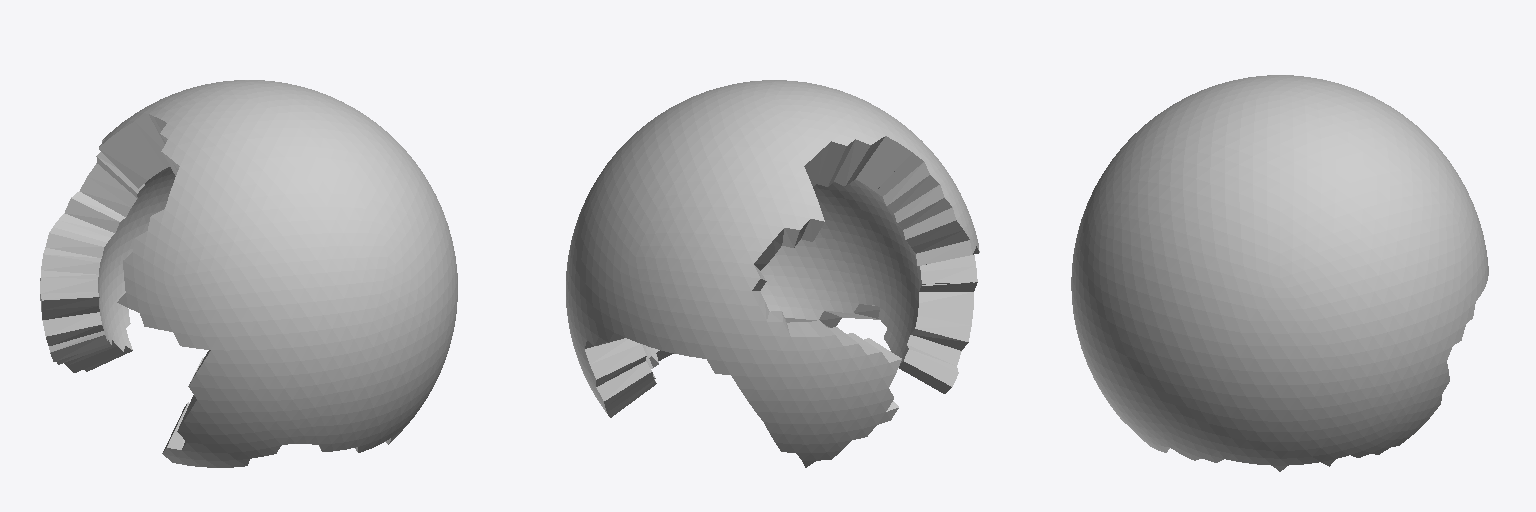
The model's file is clouds_6.obj.
3 renders of one model, left to right at view 1: azimuth 30°, elevation 25°; view 2: azimuth 150°, elevation 25°; view 3: azimuth 270°, elevation 25°, orthographic.
Parts seen in each view (by area): view 1: Icosphere.031; view 2: Icosphere.031; view 3: Icosphere.031.
Part boxes in pixels (bbox=[...]): Icosphere.031: bbox=[40, 80, 457, 467]; Icosphere.031: bbox=[566, 80, 979, 467]; Icosphere.031: bbox=[1071, 75, 1488, 471].
Bounding box in the file's own units: 20.85 × 18.09 × 21.63.